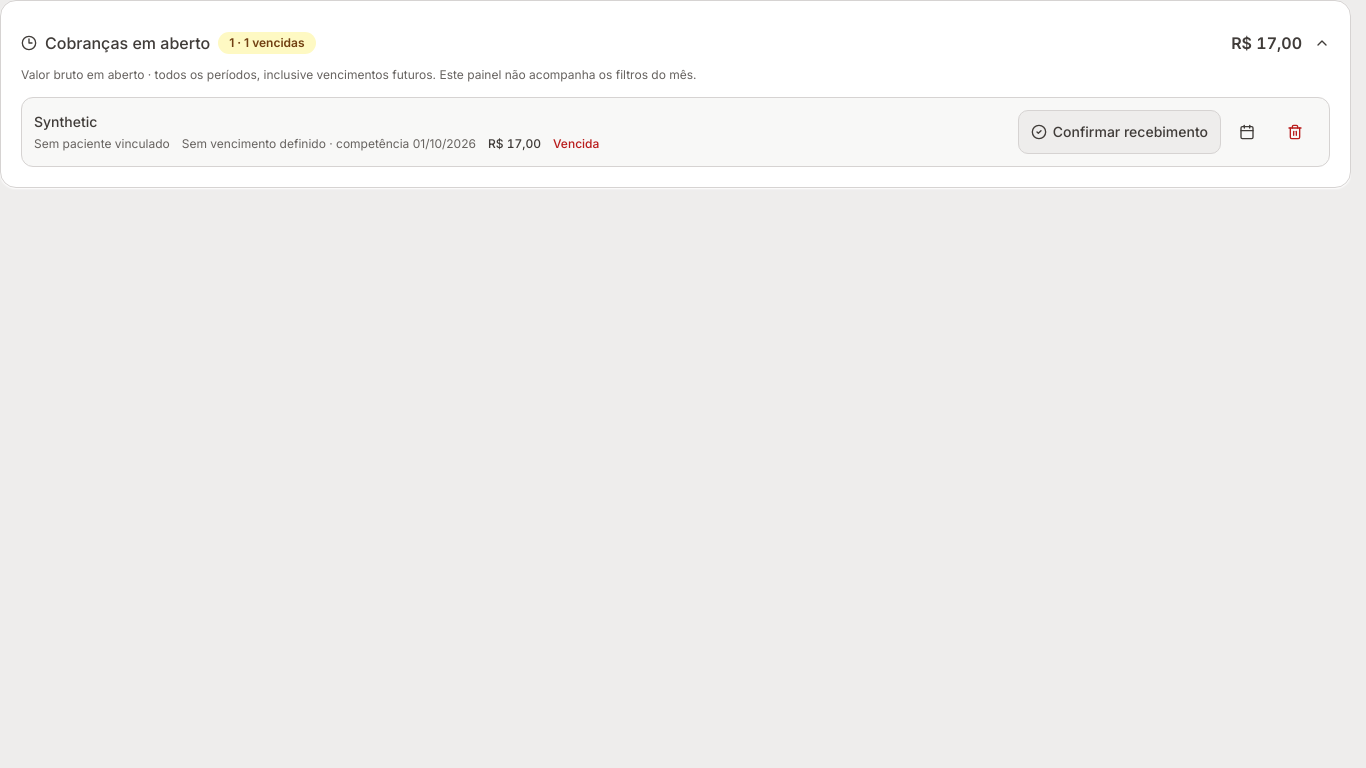
Test: financial workspace confidence and recovery › does not treat a failed mutation as paid or close its recovery dialog
This screenshot has width=1366, height=768.
Click the button "Confirmar recebimento": point(1119, 132) [1018, 110, 1221, 154]
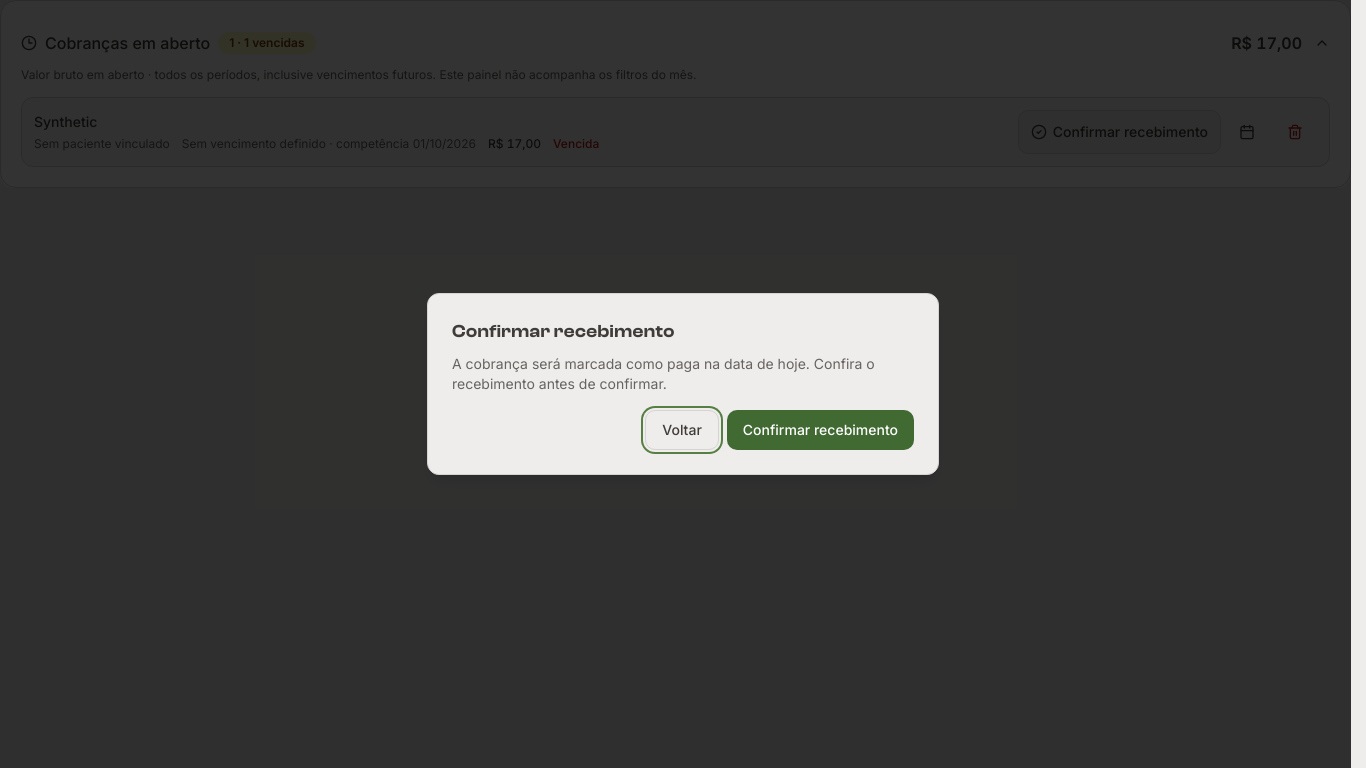
Click the button "Confirmar recebimento": point(820, 430) [727, 410, 914, 450]
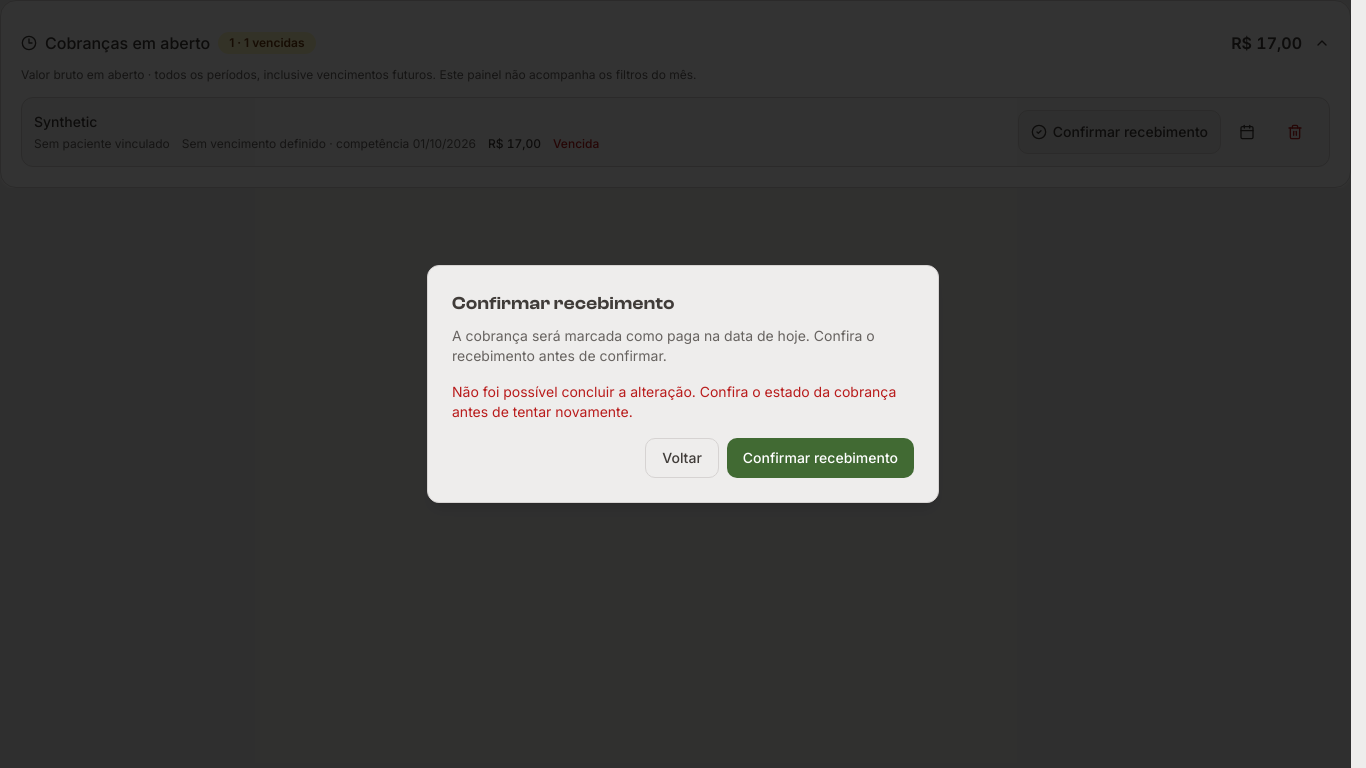
Expected: the dialog is shown, [427, 265, 939, 503]
Expected: the message is shown, [452, 382, 914, 422]
